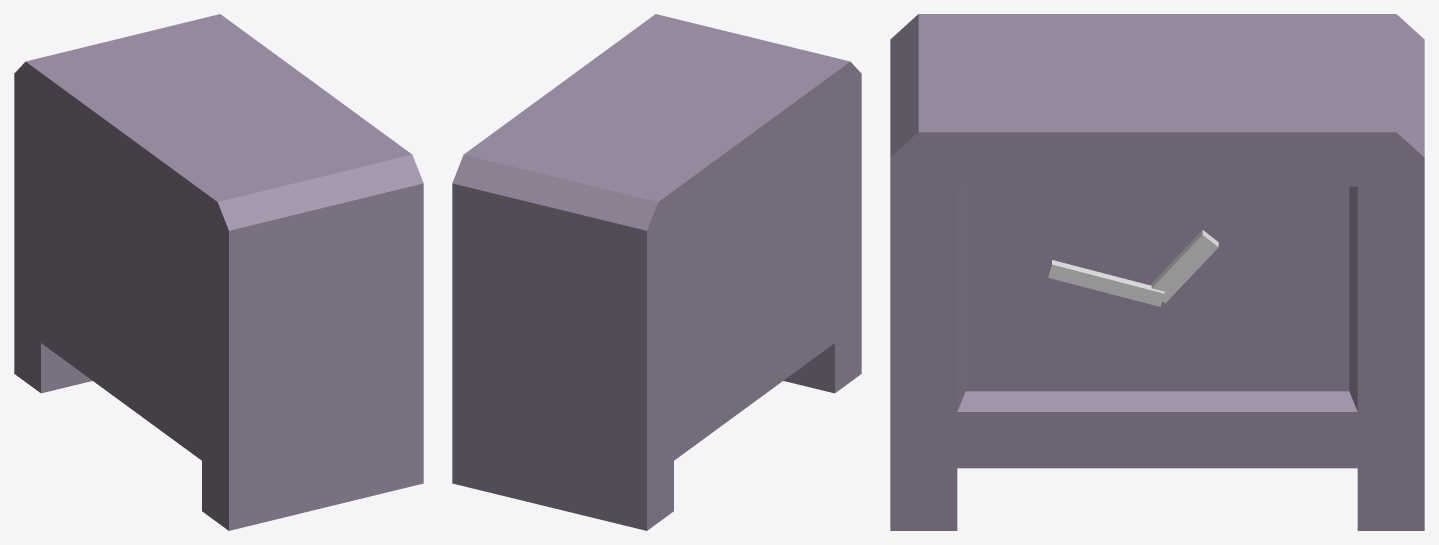
Rendered from Clock.fbx.
The picture shows the model from 3 angles, left to right: view 1: azimuth 30°, elevation 25°; view 2: azimuth 150°, elevation 25°; view 3: azimuth 270°, elevation 25°; orthographic projection. The views are drawn at different scales.
Parts seen in each view (by area): view 1: Clock; view 2: Clock; view 3: Clock.
Boxes of the visible parts, x1,y1,x2,y2 form: Clock: (14, 14, 423, 530); Clock: (452, 14, 861, 530); Clock: (890, 14, 1424, 530).
Bounding box in the file's own units: 0.1188 × 0.1868 × 0.2268.
